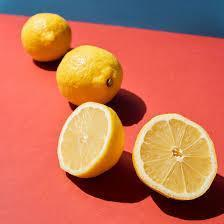lemon: (132, 113, 218, 200), (58, 102, 125, 178), (57, 44, 122, 105), (22, 13, 72, 61)
